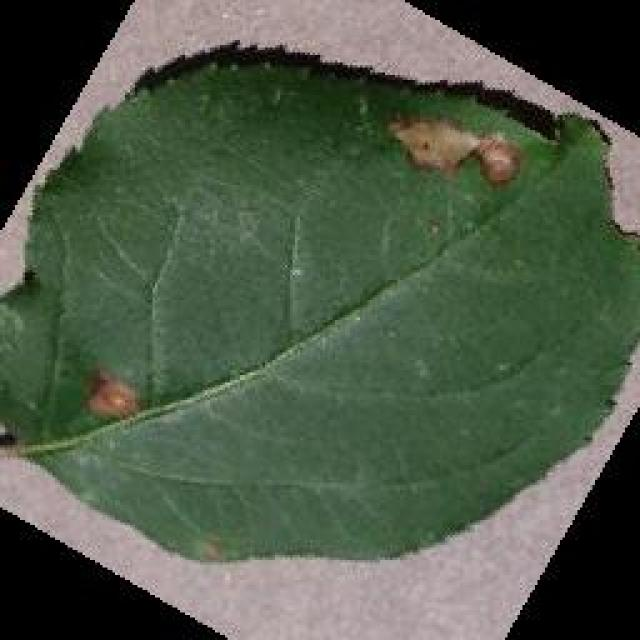Black_rot: (0, 43, 638, 565)
